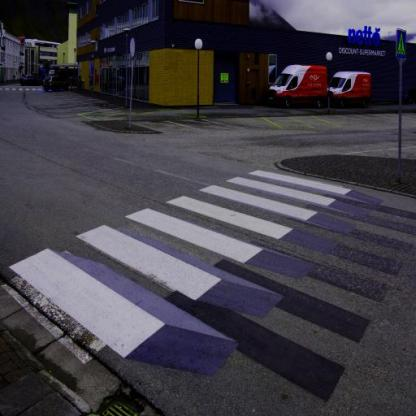crosswalk: (74, 206, 268, 306)
